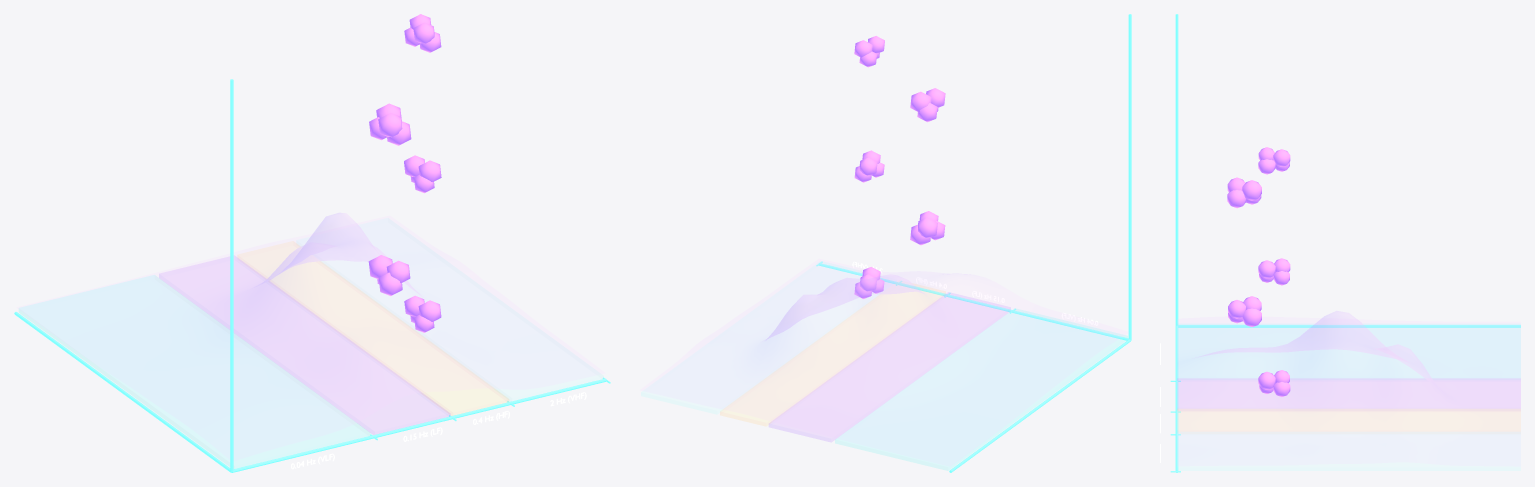
Rendered from cube_hrv_sessionA.glb.
3 renders of one model, left to right at view 1: azimuth 30°, elevation 25°; view 2: azimuth 150°, elevation 25°; view 3: azimuth 270°, elevation 25°, orthographic. The views are drawn at different scales.
Parts seen in each view (by area): view 1: hrv_sessionA_BandLandscape, hrv_sessionA_BandSlab_VLF, hrv_sessionA_BandSlab_LF, hrv_sessionA_BandSlab_HF, hrv_sessionA_EnergyLobes, hrv_sessionA_Axis_t, hrv_sessionA_Axis_fc, hrv_sessionA_Axis_fam, hrv_sessionA_BandSlab_VHF; view 2: hrv_sessionA_BandLandscape, hrv_sessionA_BandSlab_VLF, hrv_sessionA_BandSlab_LF, hrv_sessionA_BandSlab_HF, hrv_sessionA_EnergyLobes, hrv_sessionA_Axis_t, hrv_sessionA_Axis_fc, hrv_sessionA_Axis_fam; view 3: hrv_sessionA_BandLandscape, hrv_sessionA_BandSlab_VLF, hrv_sessionA_BandSlab_LF, hrv_sessionA_BandSlab_HF, hrv_sessionA_EnergyLobes, hrv_sessionA_BandSlab_VHF, hrv_sessionA_Axis_t, hrv_sessionA_Axis_fam, hrv_sessionA_Axis_fc.
Part boxes in pixels (x1=…): hrv_sessionA_BandLandscape: x1=17, y1=213, x2=603, y2=459; hrv_sessionA_BandSlab_VLF: x1=19, y1=275, x2=369, y2=468; hrv_sessionA_BandSlab_LF: x1=159, y1=256, x2=449, y2=434; hrv_sessionA_BandSlab_HF: x1=238, y1=241, x2=508, y2=415; hrv_sessionA_EnergyLobes: x1=368, y1=14, x2=441, y2=332; hrv_sessionA_Axis_t: x1=230, y1=79, x2=233, y2=471; hrv_sessionA_Axis_fc: x1=232, y1=378, x2=606, y2=472; hrv_sessionA_Axis_fam: x1=14, y1=312, x2=231, y2=472; hrv_sessionA_BandSlab_VHF: x1=495, y1=374, x2=603, y2=400; hrv_sessionA_BandLandscape: x1=641, y1=259, x2=1126, y2=465; hrv_sessionA_BandSlab_VLF: x1=835, y1=309, x2=1127, y2=470; hrv_sessionA_BandSlab_LF: x1=769, y1=292, x2=1010, y2=441; hrv_sessionA_BandSlab_HF: x1=720, y1=284, x2=945, y2=425; hrv_sessionA_EnergyLobes: x1=854, y1=36, x2=945, y2=298; hrv_sessionA_Axis_t: x1=1128, y1=14, x2=1131, y2=340; hrv_sessionA_Axis_fc: x1=818, y1=263, x2=1128, y2=340; hrv_sessionA_Axis_fam: x1=949, y1=339, x2=1131, y2=472; hrv_sessionA_BandLandscape: x1=1177, y1=311, x2=1520, y2=465; hrv_sessionA_BandSlab_VLF: x1=1177, y1=324, x2=1520, y2=377; hrv_sessionA_BandSlab_LF: x1=1177, y1=379, x2=1520, y2=407; hrv_sessionA_BandSlab_HF: x1=1177, y1=409, x2=1520, y2=430; hrv_sessionA_EnergyLobes: x1=1227, y1=147, x2=1290, y2=396; hrv_sessionA_BandSlab_VHF: x1=1179, y1=462, x2=1520, y2=470; hrv_sessionA_Axis_t: x1=1175, y1=14, x2=1178, y2=325; hrv_sessionA_Axis_fam: x1=1178, y1=325, x2=1520, y2=327; hrv_sessionA_Axis_fc: x1=1175, y1=325, x2=1178, y2=472.
Size of the model in its own units: 10.06 by 10.11 by 10.49.
